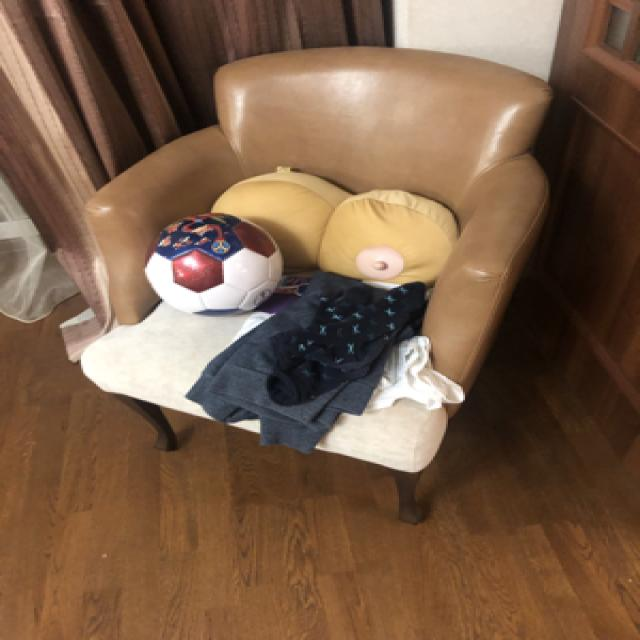soccer_ball: (143, 211, 279, 315)
